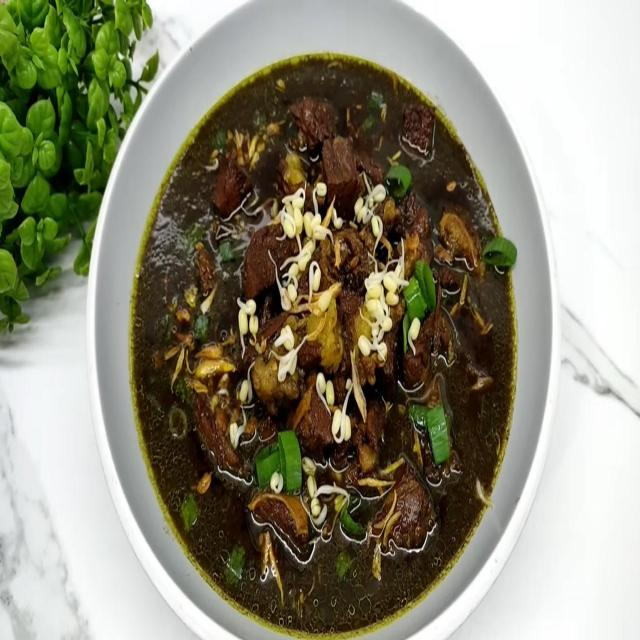Rawon: (142, 56, 501, 586)
